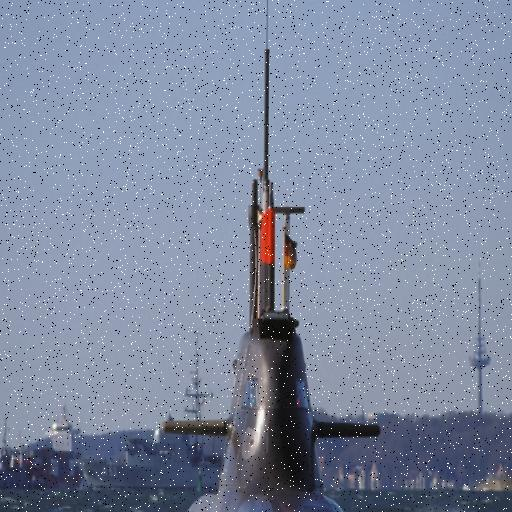submarine: (124, 2, 372, 512)
